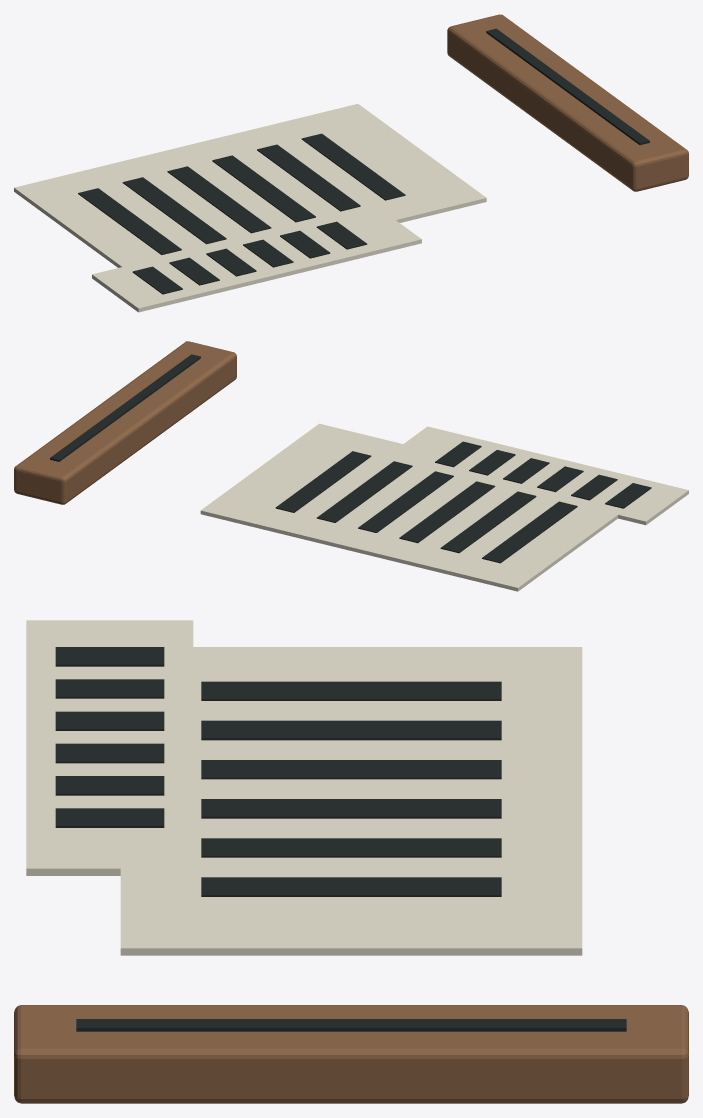
The model's file is sideboard-papers.glb.
3 renders of one model, top to bottom at view 1: azimuth 30°, elevation 25°; view 2: azimuth 150°, elevation 25°; view 3: azimuth 270°, elevation 25°, orthographic. The views are drawn at different scales.
Parts seen in each view (by area): view 1: sideboard-papers; view 2: sideboard-papers; view 3: sideboard-papers.
Boxes of the visible parts, box(x1,y1,x2,y2) form: sideboard-papers: box(14, 14, 688, 312); sideboard-papers: box(14, 341, 688, 591); sideboard-papers: box(14, 620, 688, 1103).
Bounding box in the file's own units: 0.32 × 0.0186 × 0.19.
